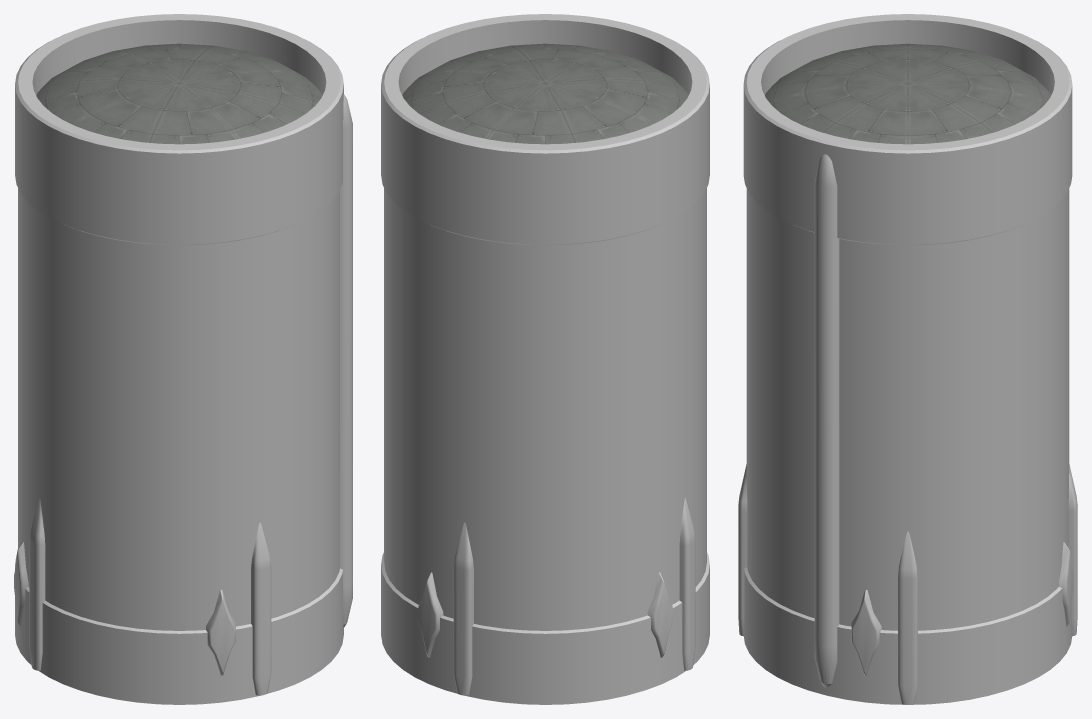
The model's file is Saturn_S2_Tankage.dae.
The picture shows the model from 3 angles, left to right: view 1: azimuth 30°, elevation 25°; view 2: azimuth 150°, elevation 25°; view 3: azimuth 270°, elevation 25°; orthographic projection.
Parts seen in each view (by area): view 1: S2_Tank_Merged_S2_Tank_Mesh, S4B_FuelTank_Merged_TankTopper4; view 2: S2_Tank_Merged_S2_Tank_Mesh, S4B_FuelTank_Merged_TankTopper4; view 3: S2_Tank_Merged_S2_Tank_Mesh, S4B_FuelTank_Merged_TankTopper4.
Part boxes in pixels (x1,y1,x2,y2): S2_Tank_Merged_S2_Tank_Mesh: (14,14,352,704); S4B_FuelTank_Merged_TankTopper4: (36,43,322,144); S2_Tank_Merged_S2_Tank_Mesh: (381,14,709,704); S4B_FuelTank_Merged_TankTopper4: (402,43,688,144); S2_Tank_Merged_S2_Tank_Mesh: (738,14,1077,704); S4B_FuelTank_Merged_TankTopper4: (765,43,1050,144).
Size of what is drawn, in the model's own units: 5.91 by 10.66 by 5.91.
